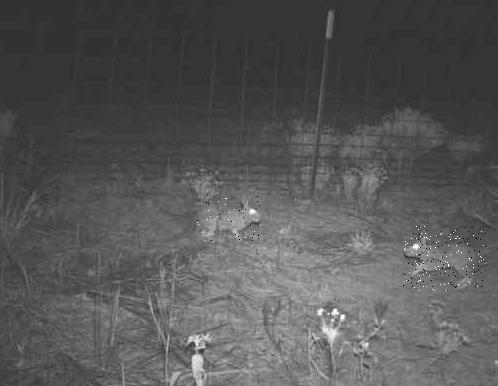Rabbit: (404, 226, 487, 291), (197, 196, 265, 243)
